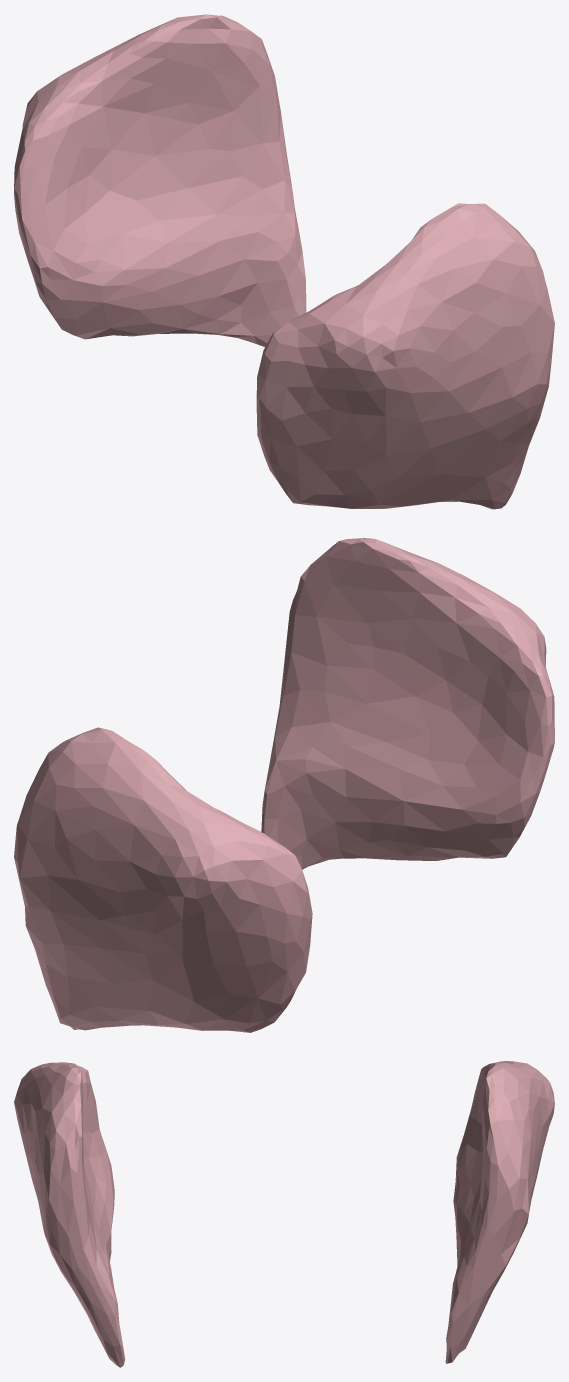
The picture shows the model from 3 angles, top to bottom: view 1: azimuth 30°, elevation 25°; view 2: azimuth 150°, elevation 25°; view 3: azimuth 270°, elevation 25°; orthographic projection. The views are drawn at different scales.
Visible parts, largest first — view 1: 575.obj; view 2: 575.obj; view 3: 575.obj.
Boxes of the visible parts, x1,y1,x2,y2 form: 575.obj: [14, 14, 554, 509]; 575.obj: [14, 538, 554, 1032]; 575.obj: [14, 1061, 554, 1367].
Bounding box in the file's own units: 1040 × 1202 × 2190.
